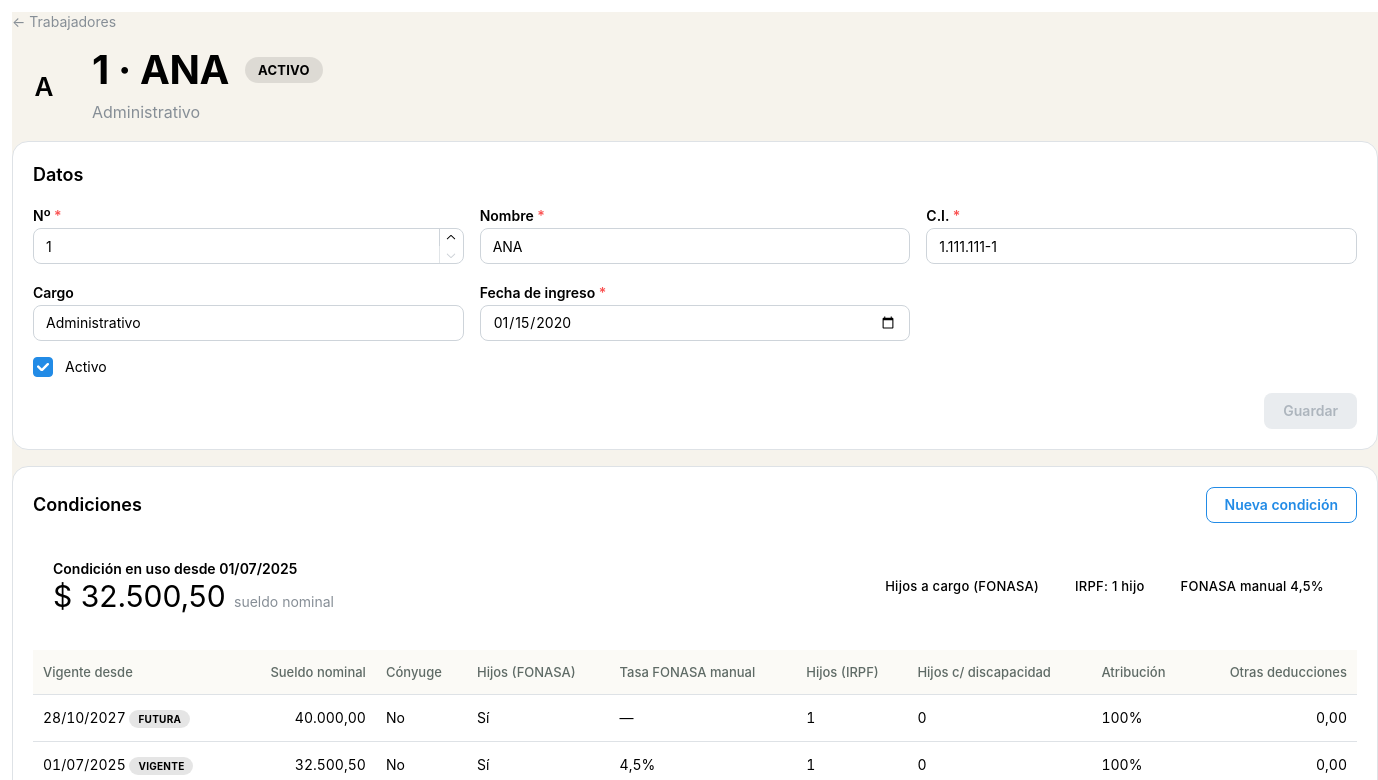
Test: TrabajadorDetallePage › saves identity changes
expect the button "Guardar" is disabled: met, box 1264,393 -> 1357,429
Replace the text in the dropdown labelled "Cargo" with "Gerente" at (248, 323), box 33,305 -> 464,341
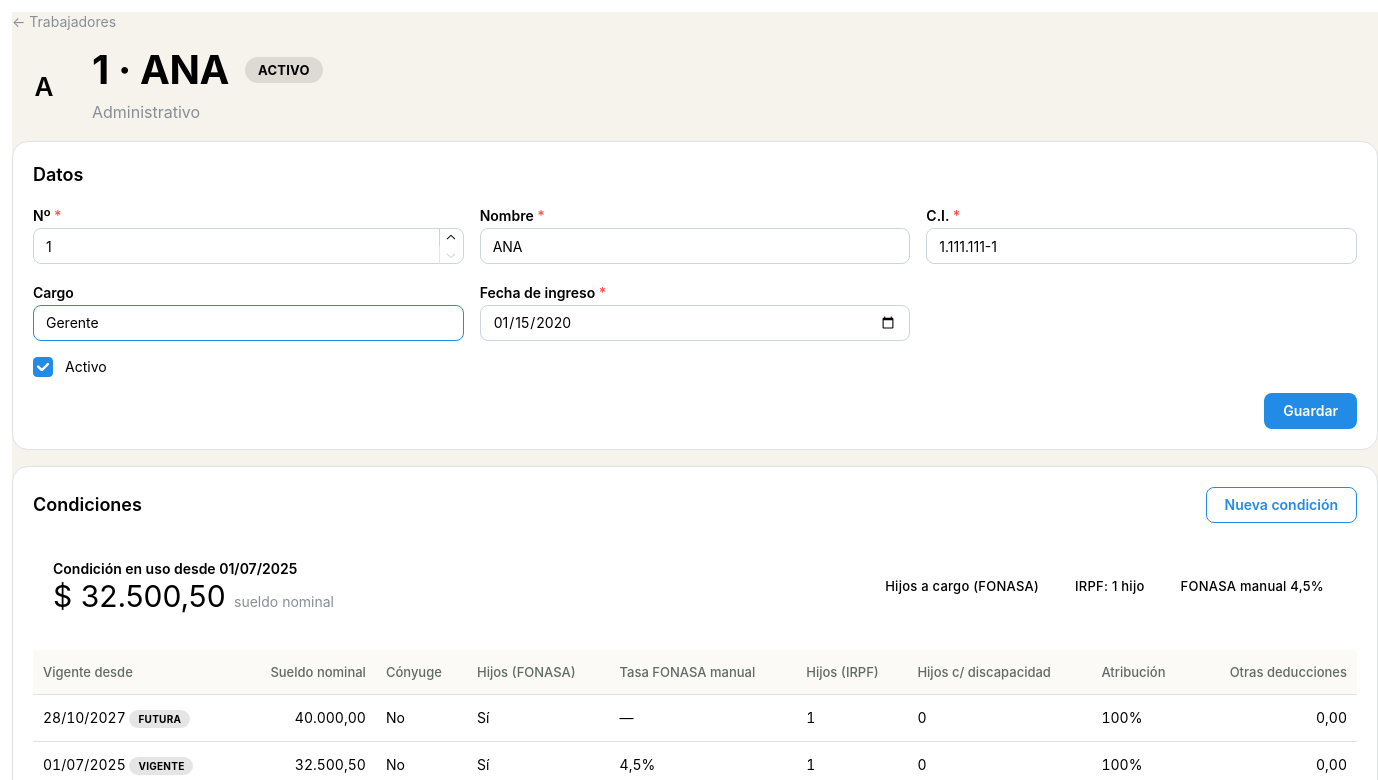
Click the checkbox labelled "Activo".
click(43, 367)  # box 33,357 -> 53,377
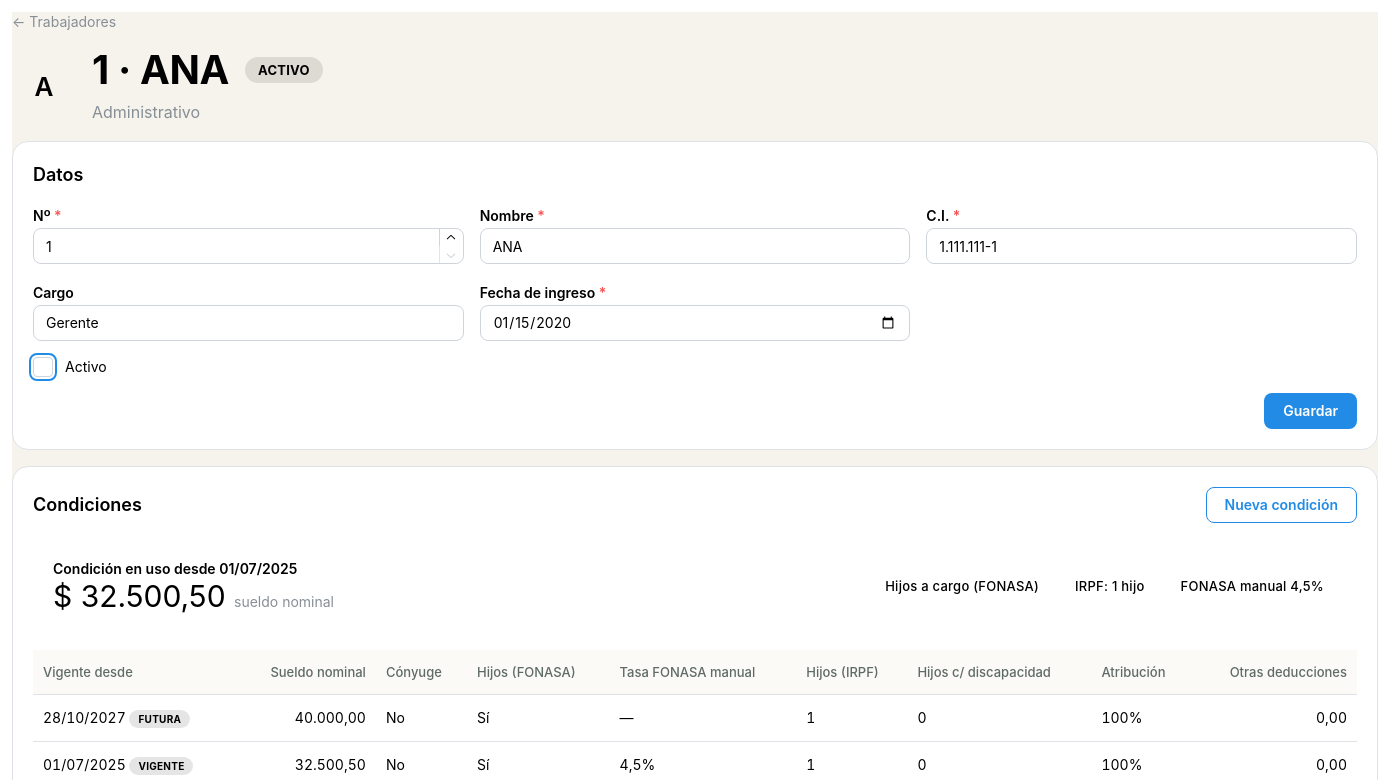
Click the button "Guardar".
click(1311, 411)  # box 1264,393 -> 1357,429
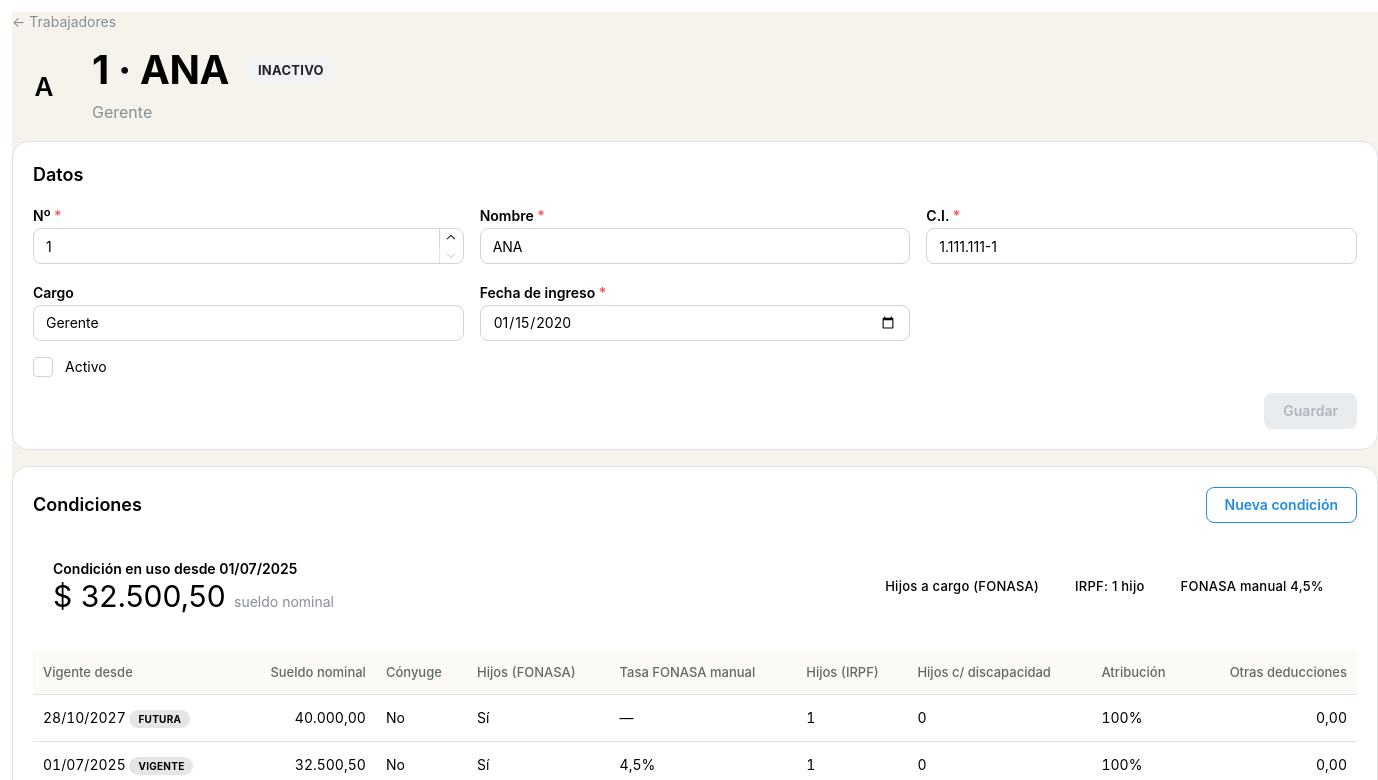
expect the button "Guardar" is disabled: met, box 1264,393 -> 1357,429
